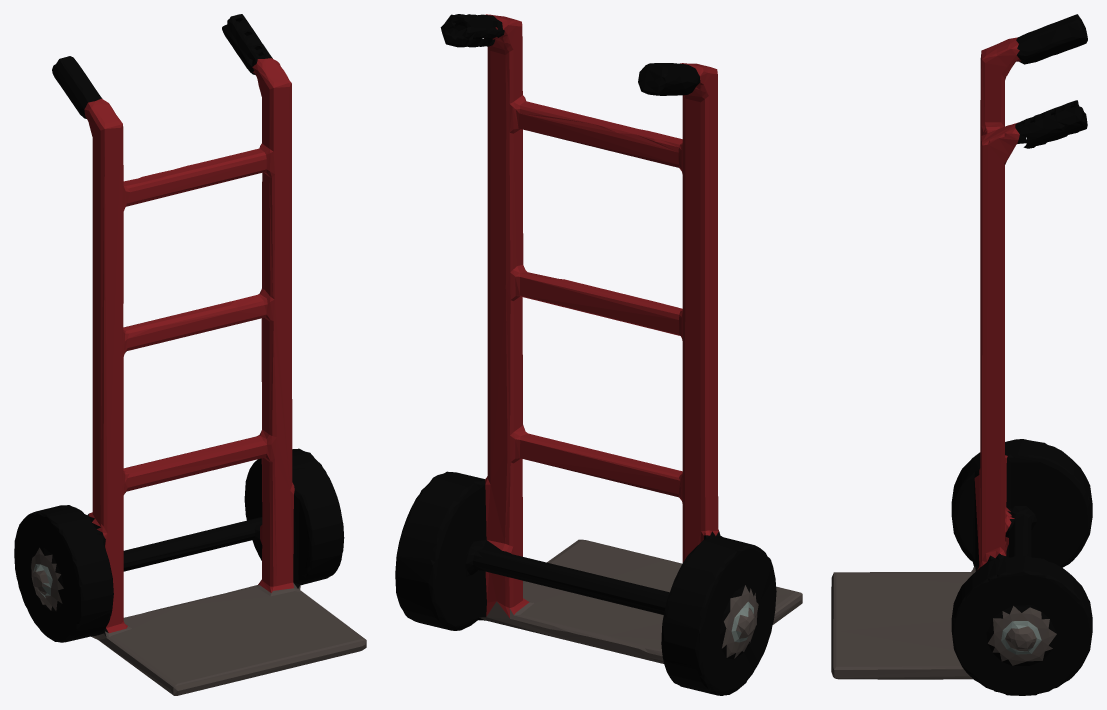
Rendered from SM_Carretilla_v2.fbx.
The picture shows the model from 3 angles, left to right: view 1: azimuth 30°, elevation 25°; view 2: azimuth 150°, elevation 25°; view 3: azimuth 270°, elevation 25°; orthographic projection. The views are drawn at different scales.
Parts seen in each view (by area): view 1: SM_Carretilla_v2; view 2: SM_Carretilla_v2; view 3: SM_Carretilla_v2.
Boxes of the visible parts, x1,y1,x2,y2 form: SM_Carretilla_v2: (14,14,366,695); SM_Carretilla_v2: (395,14,802,695); SM_Carretilla_v2: (831,14,1092,695).
Size of the model in its own units: 0.6536 by 1.2 by 0.4968.
Materials: 1 (1 with a texture image).
